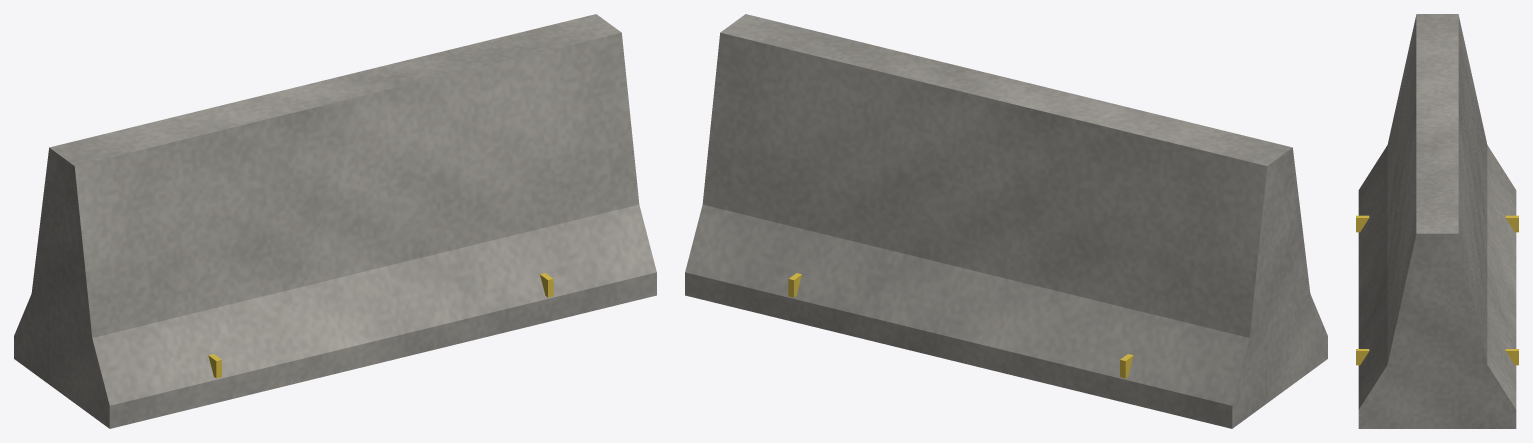
Rendered from jersey.glb.
3 views of the same model, side by side, from view 1: azimuth 30°, elevation 25°; view 2: azimuth 150°, elevation 25°; view 3: azimuth 270°, elevation 25° (orthographic). The views are drawn at different scales.
Visible parts, largest first — view 1: jersey; view 2: jersey; view 3: jersey, stripes.
Part boxes in pixels (bbox=[...]): jersey: bbox=[14, 14, 656, 428]; jersey: bbox=[685, 14, 1327, 428]; jersey: bbox=[1358, 14, 1516, 428]; stripes: bbox=[1356, 215, 1518, 365].
Size of the model in its own units: 1.98 by 0.82 by 0.62.
Materials: 2 (1 with a texture image).
